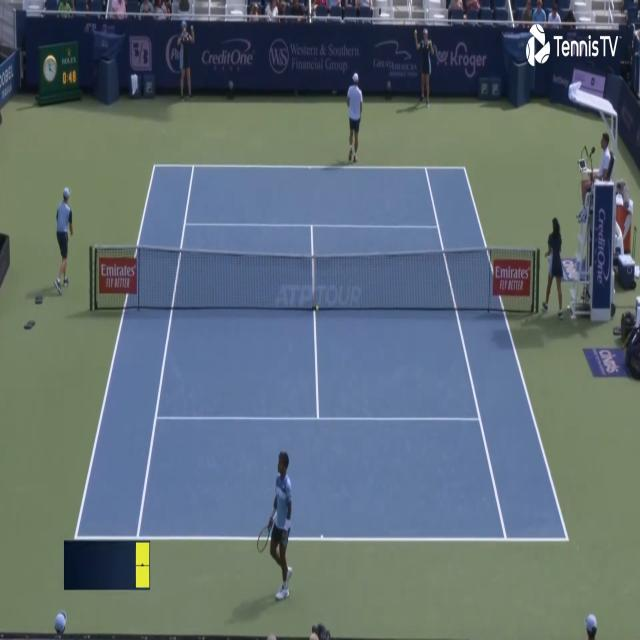tennis-player: (256, 444, 296, 606), (346, 68, 364, 164)
